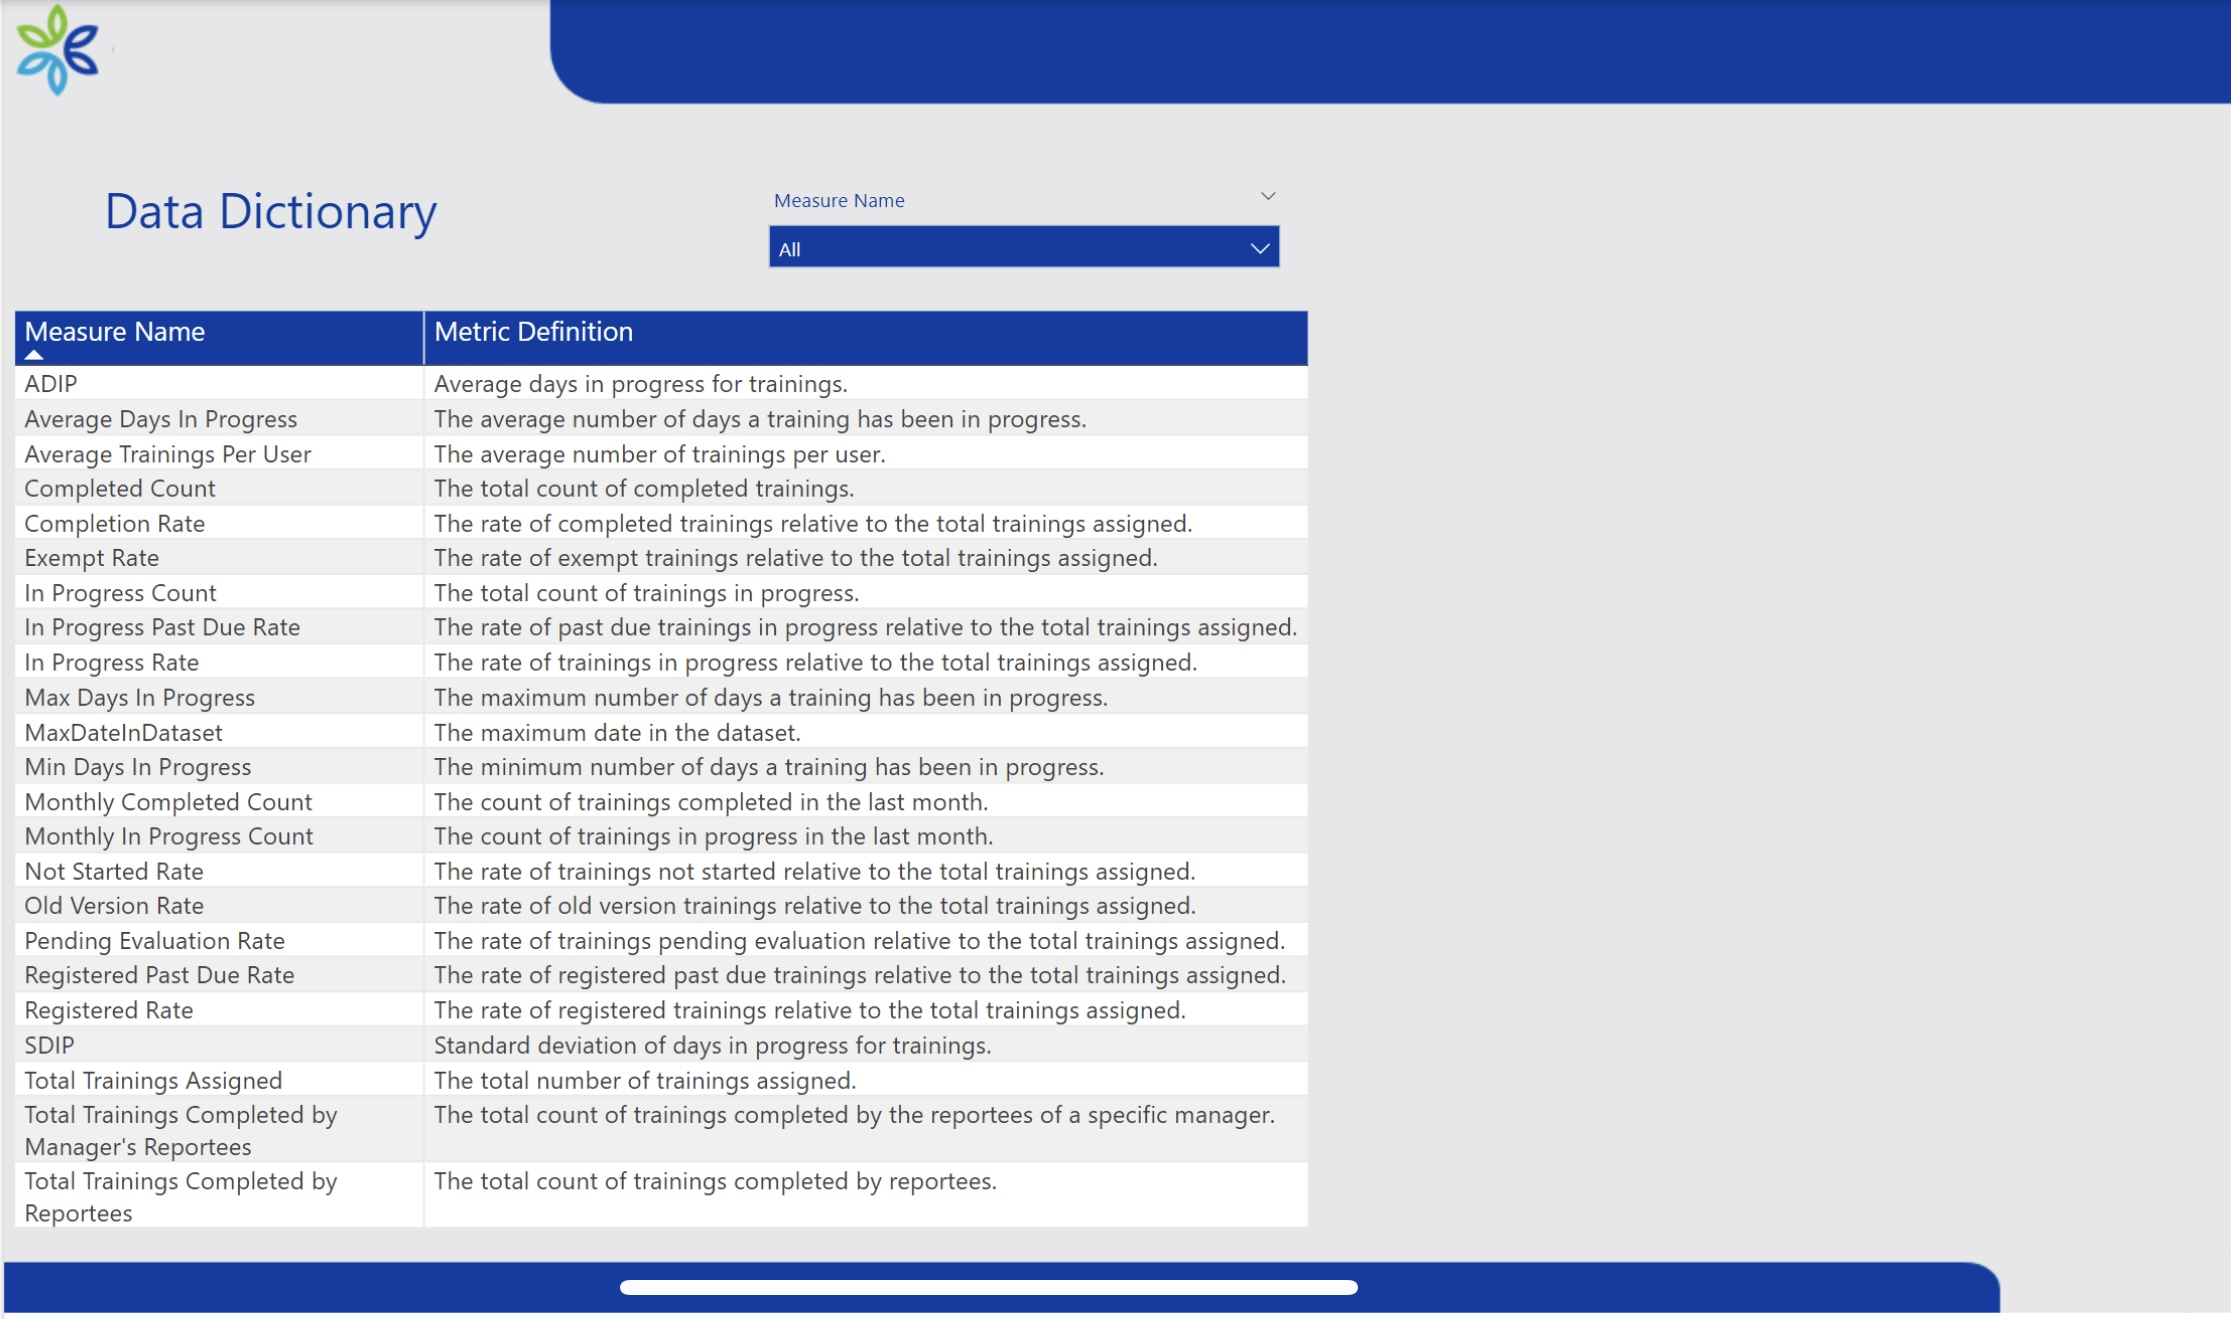

The dashboard page shown, as its layout file describes it:
{"tool":"powerbi","page":{"name":"Data Dictionary ","canvas":[1280,720],"ordinal":5},"visuals":[{"type":"tableEx","fields":{"Values":["Data_Dictionary.Measure Name","Data_Dictionary.Metric Definition"]},"box":[0,164.4,761.2,517.3],"z":0},{"type":"textbox","box":[0,90.5,297.5,57.3],"z":1000},{"type":"slicer","fields":{"Values":["Data_Dictionary.Measure Name"]},"box":[406.5,96.1,299.3,51.7],"z":2000},{"type":"shape","box":[1095,682,185.2,34.3],"z":2001}]}

Visuals, with their boxes on the page's 1280x720 design canvas (x1, y1, x2, y2). These are canvas units, not pixel positions in the 2231x1319 screenshot, which may show the page scaled, cropped or inside an application window:
tableEx - Data_Dictionary.Measure Name x Data_Dictionary.Metric Definition: [0, 164, 761, 682]
textbox: [0, 90, 298, 148]
slicer - Data_Dictionary.Measure Name: [406, 96, 706, 148]
shape: [1095, 682, 1280, 716]
